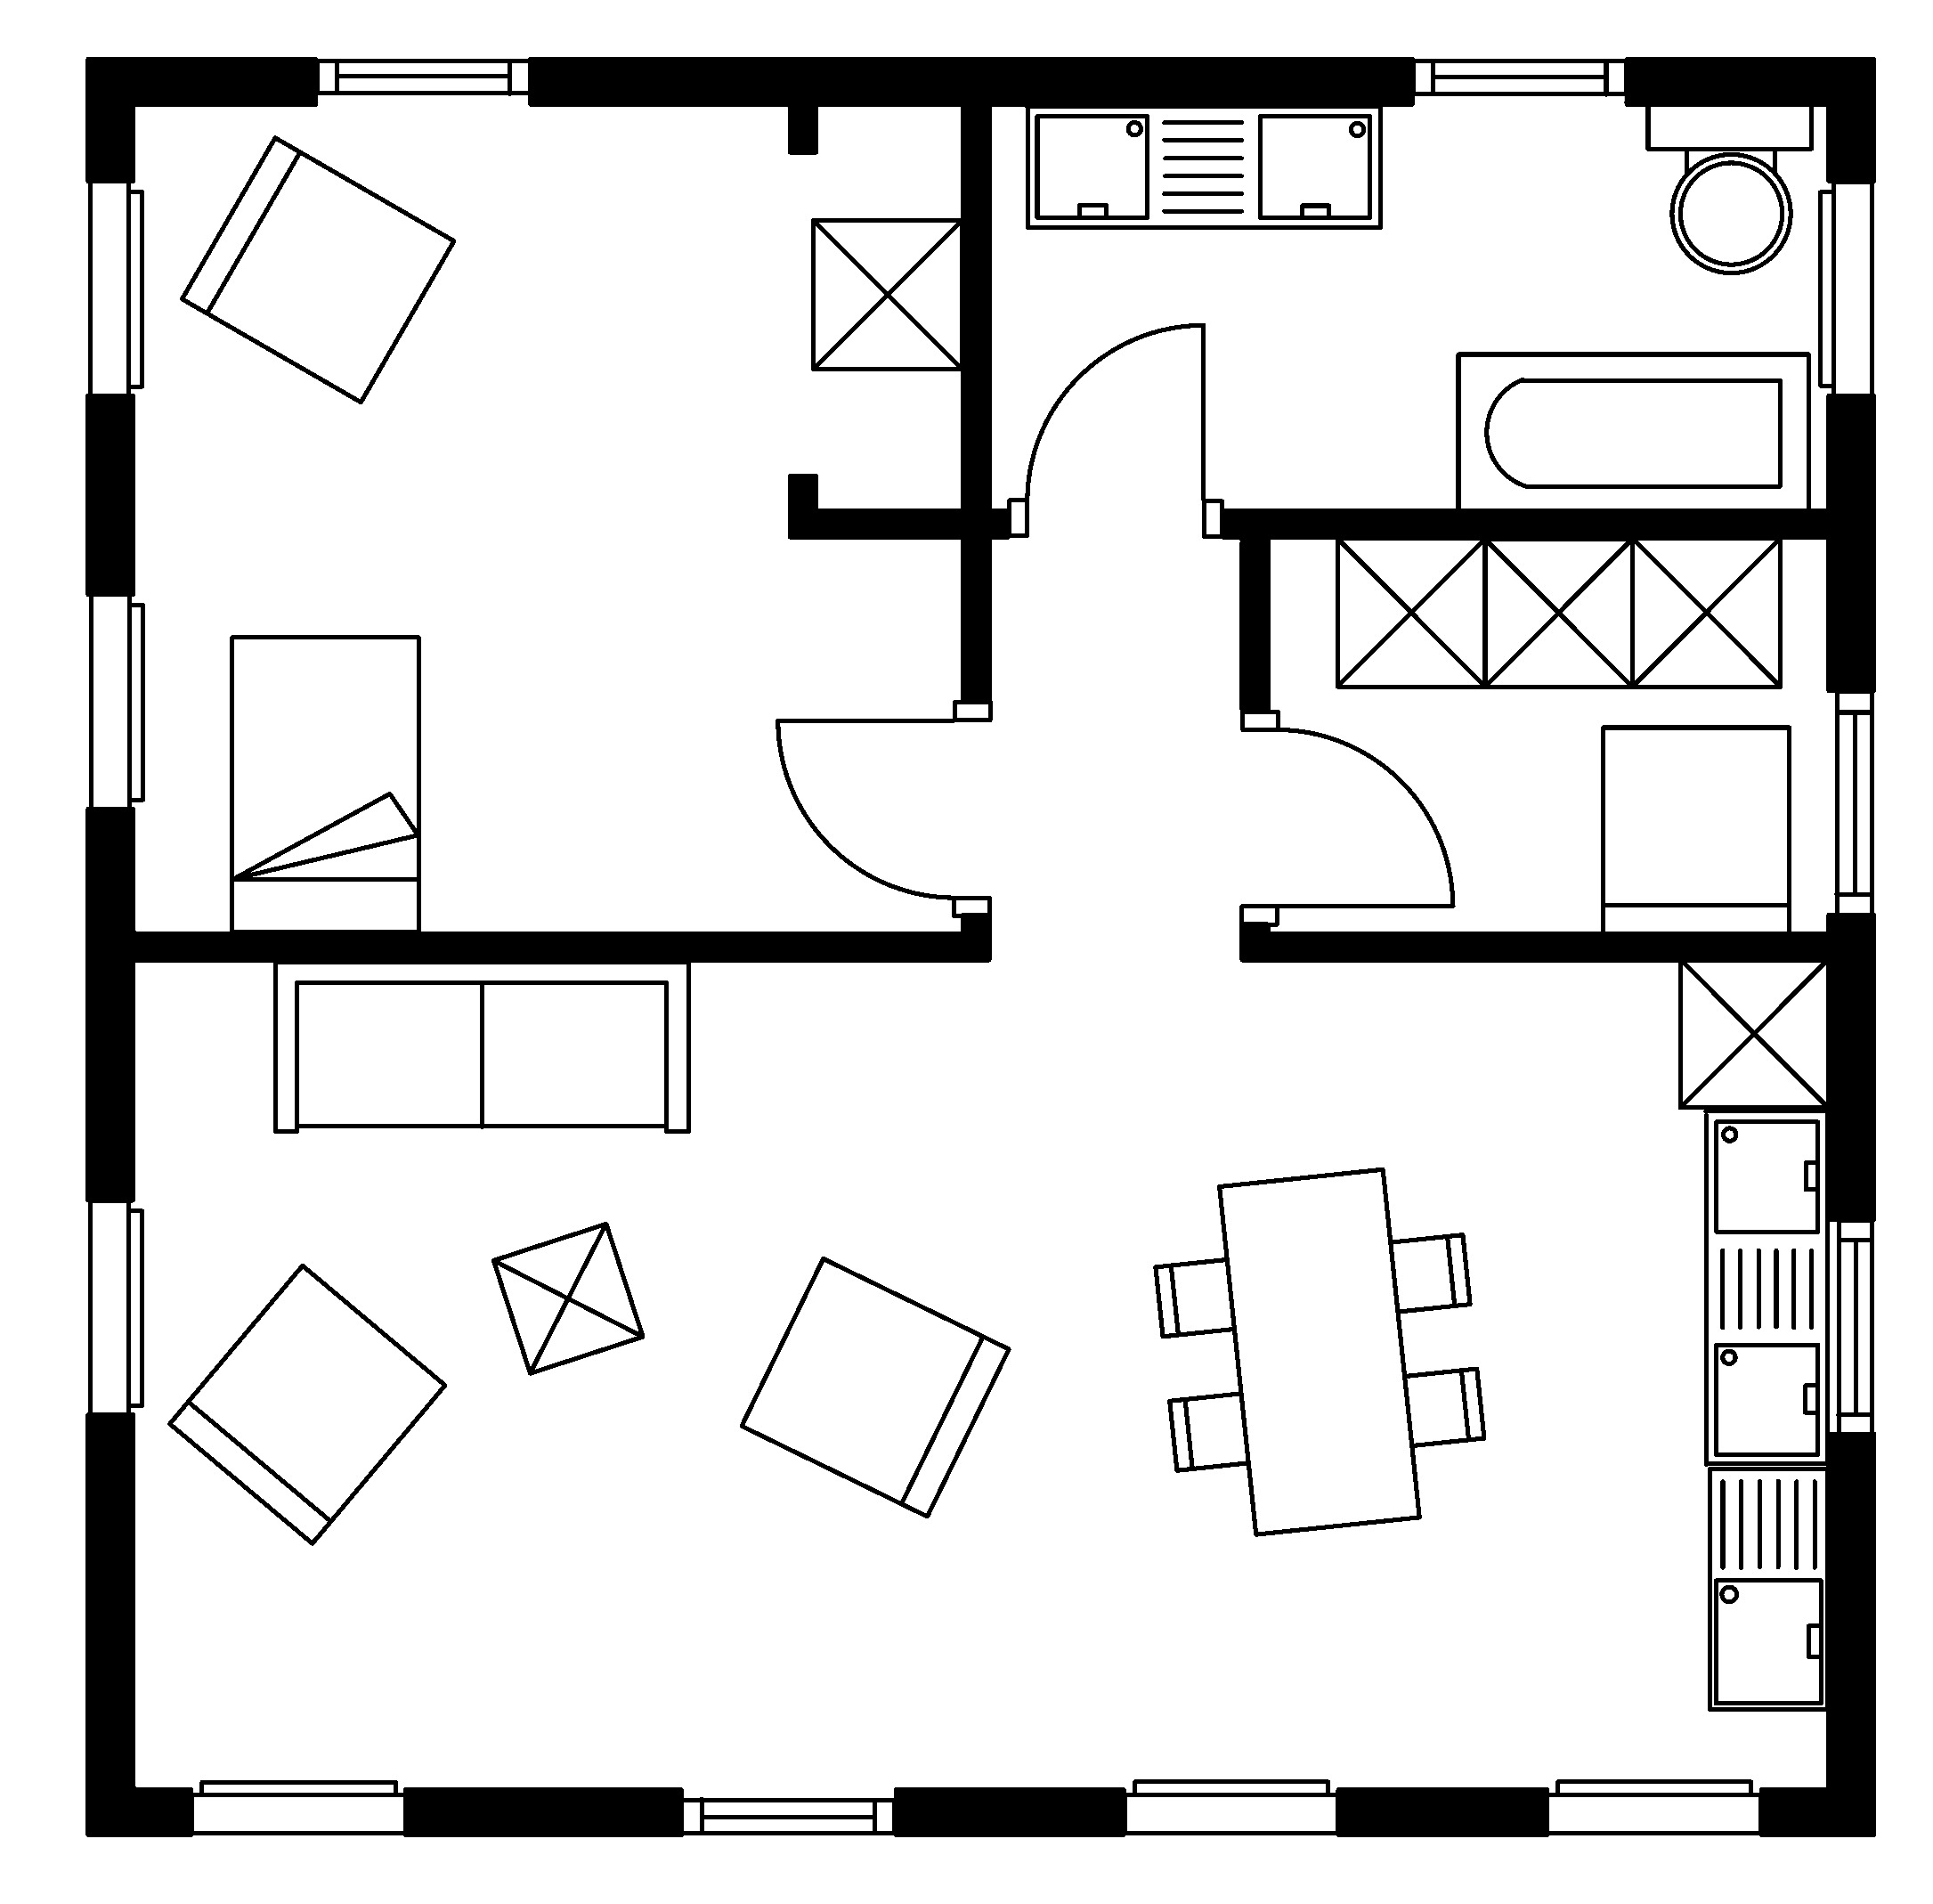basin: (1698, 1107, 1825, 1716), (1020, 103, 1387, 235)
bed: (223, 628, 429, 933)
door: (1236, 713, 1461, 929), (769, 701, 997, 914), (1009, 317, 1218, 539)
rectangleTable: (1150, 1159, 1497, 1541)
window: (1828, 692, 1881, 915), (685, 1794, 896, 1839), (1408, 56, 1628, 98), (1835, 1219, 1877, 1435), (317, 56, 533, 96)
